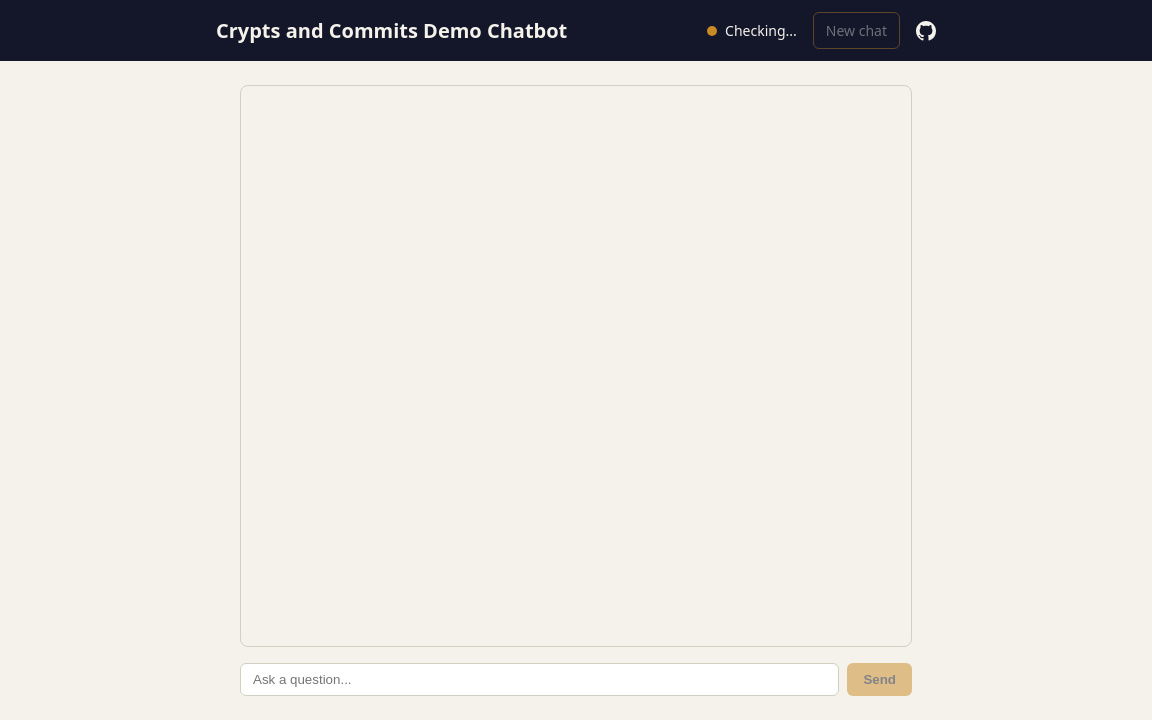
App › clears the conversation and forgets the thread_id when New Chat is clicked
Type "Hello" into the field with placeholder "Ask a question...". click: (540, 680)
box: [240,663,839,696]
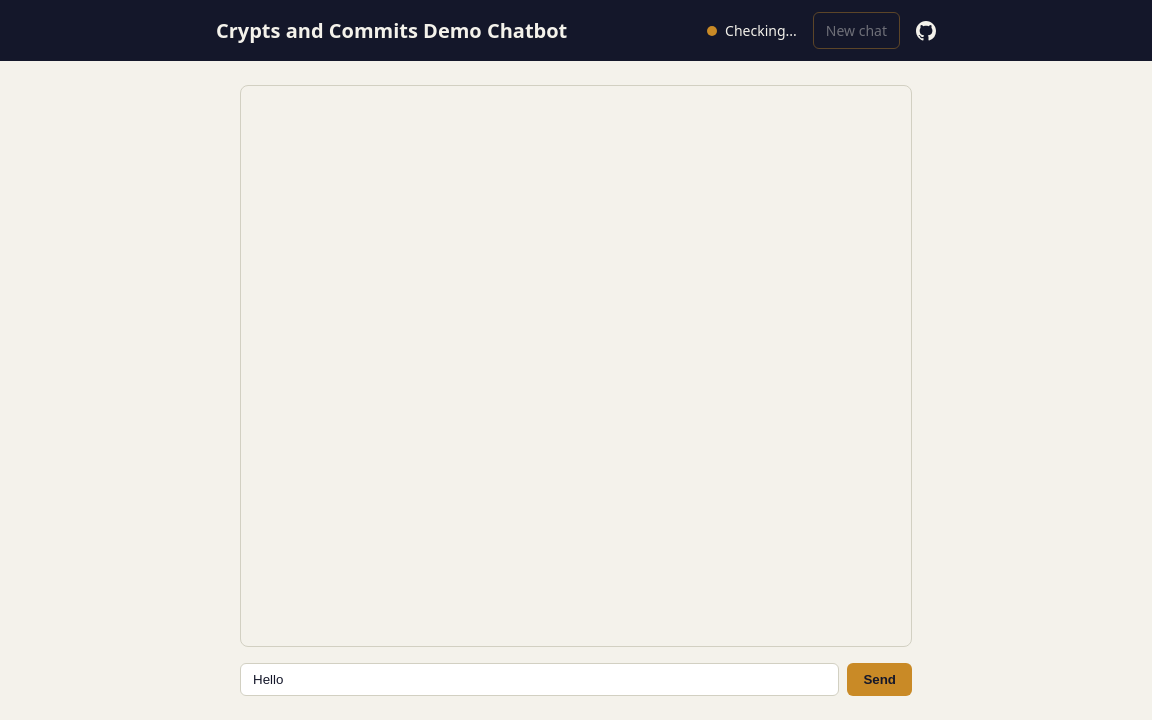
Click the button "Send". click: (880, 680)
box: [847,663,912,696]
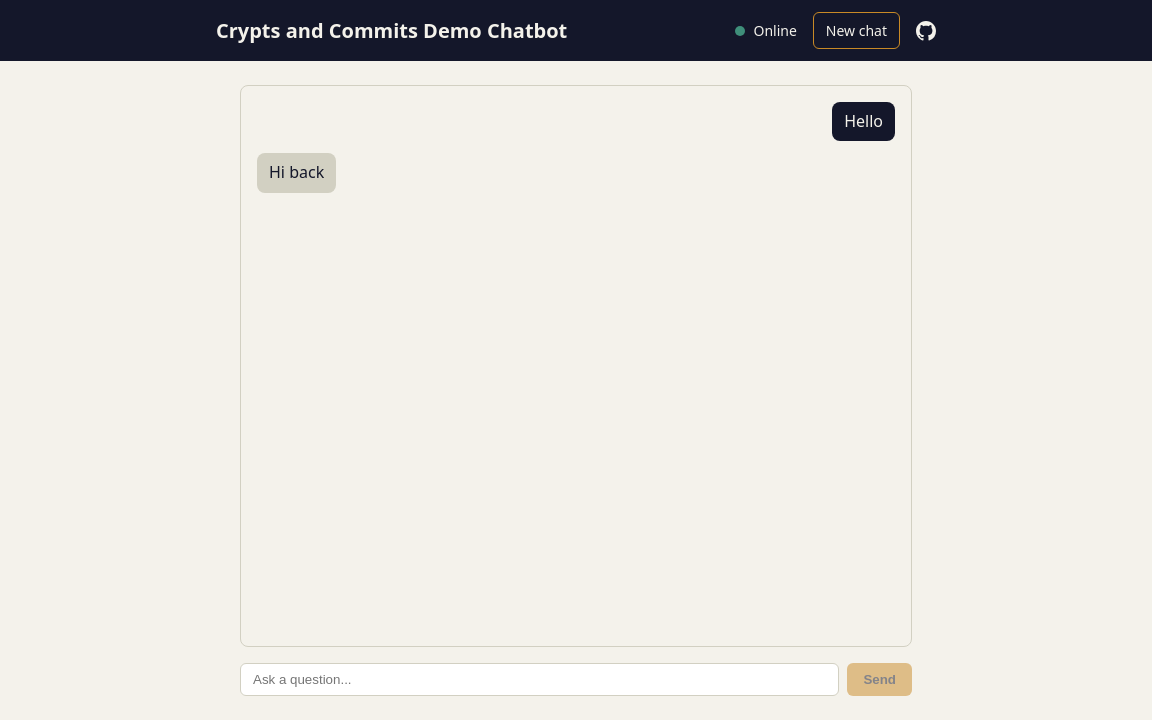
Expected: the text "Hi back" is shown, [269,161,324,185]
Expected: the button "New chat" is enabled
Click the button "New chat". click: (856, 31)
box: [813,12,900,49]
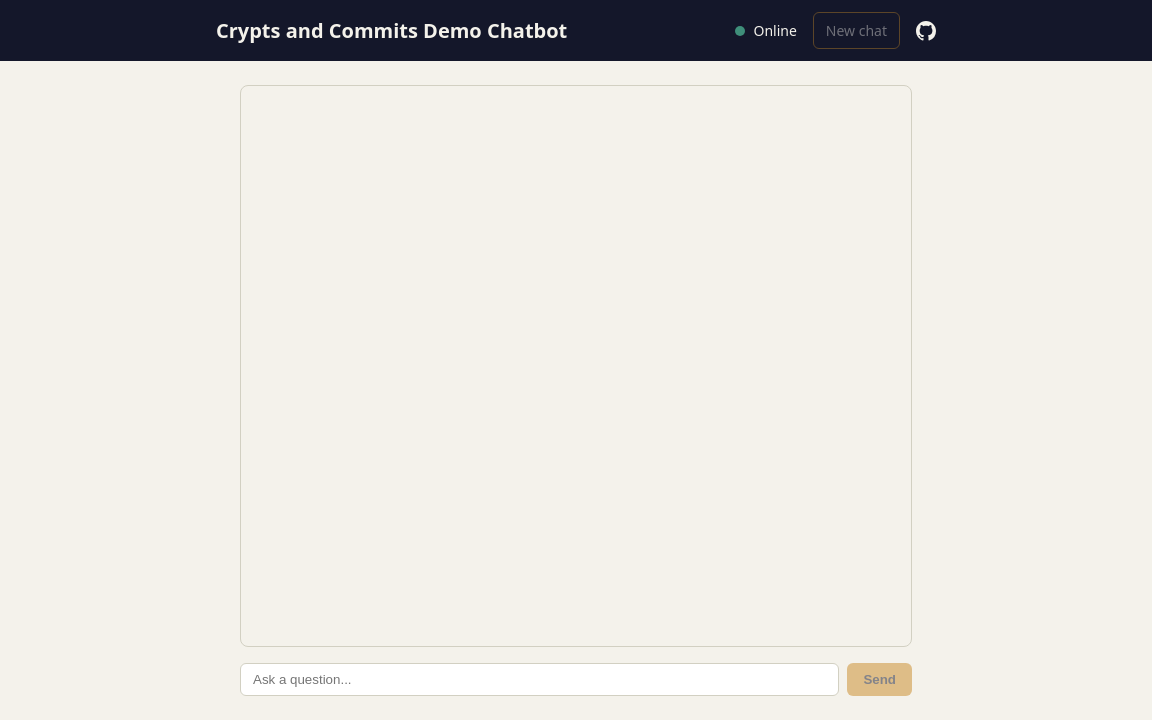
Expected: the text "Hello" is gone
Expected: the text "Hi back" is gone
Type "Second conversation" into the field with placeholder "Ask a question...". click: (540, 680)
box: [240,663,839,696]
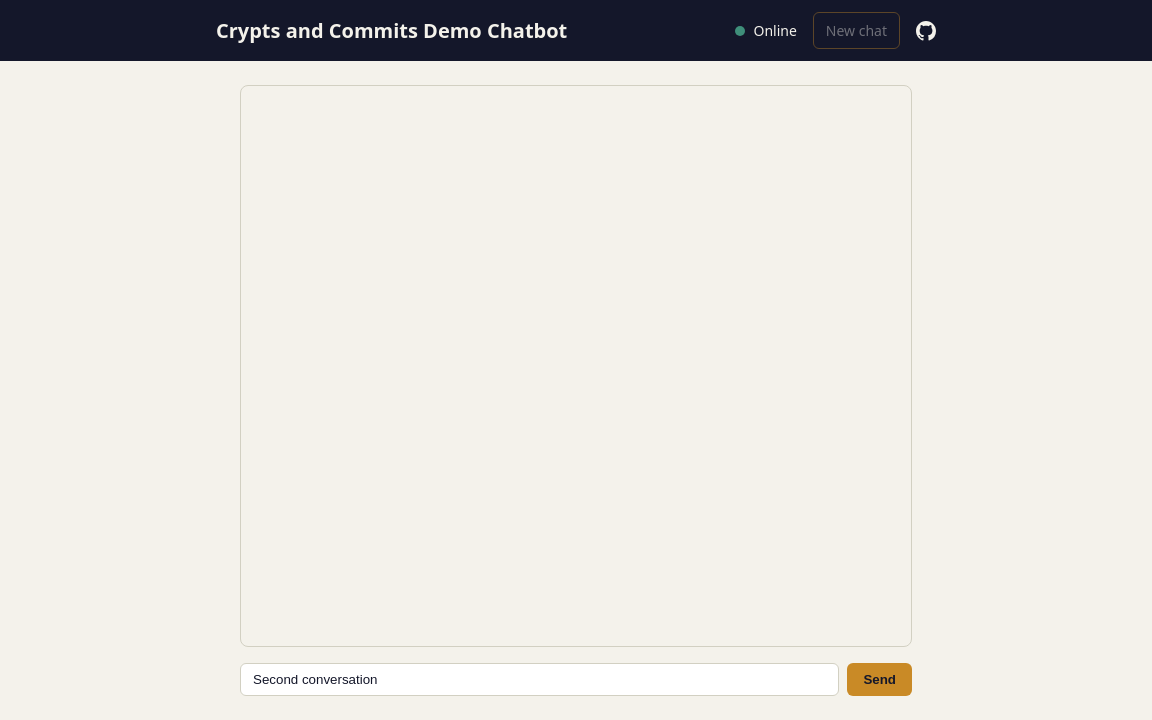
Click the button "Send". click: (880, 680)
box: [847,663,912,696]
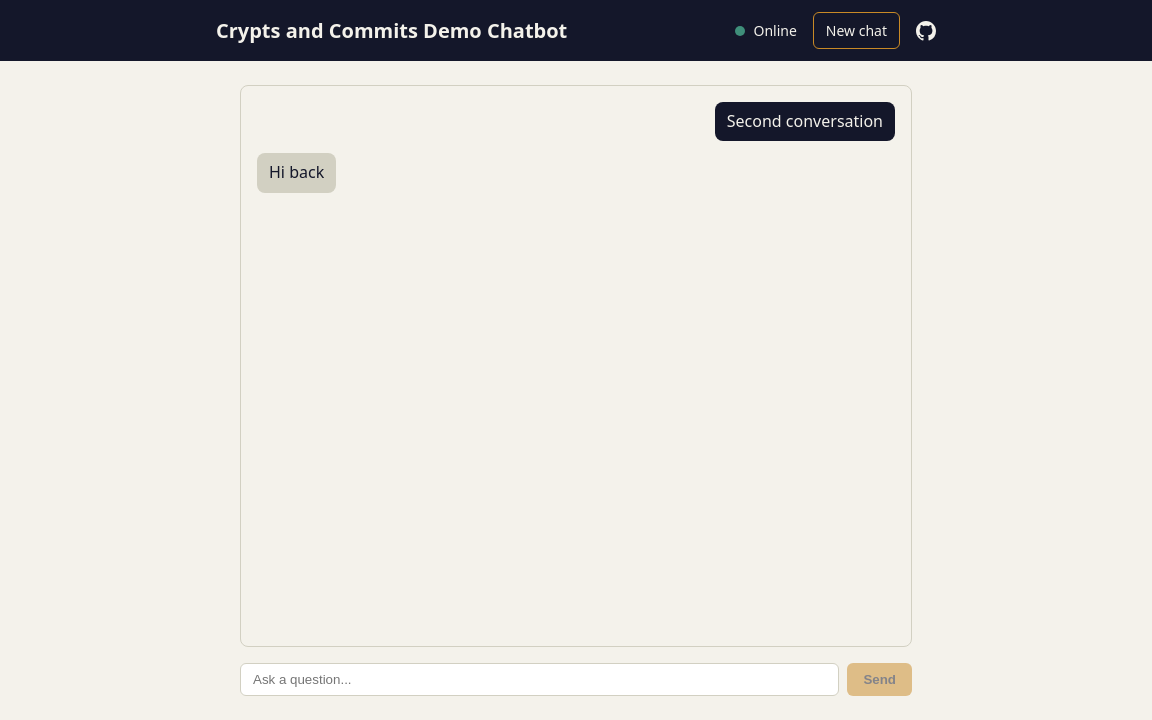
Expected: the text "Second conversation" is shown, [715,102,895,141]
